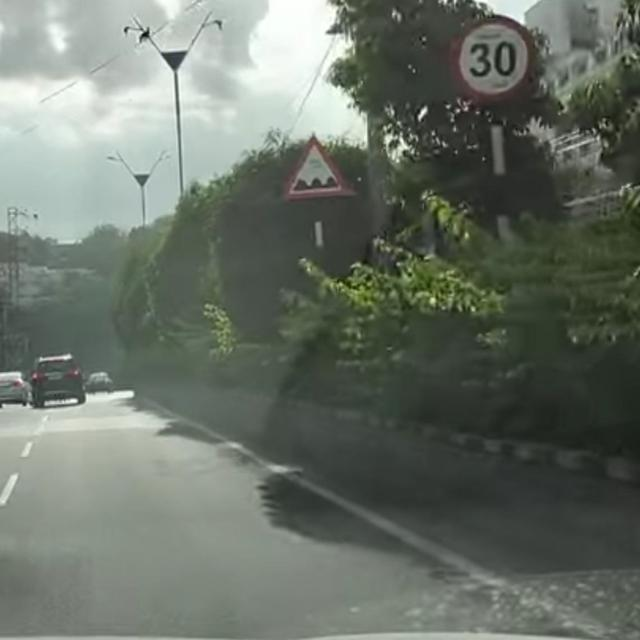Rumble_strip: (281, 134, 349, 207)
speedlimit_30: (453, 12, 544, 110)
